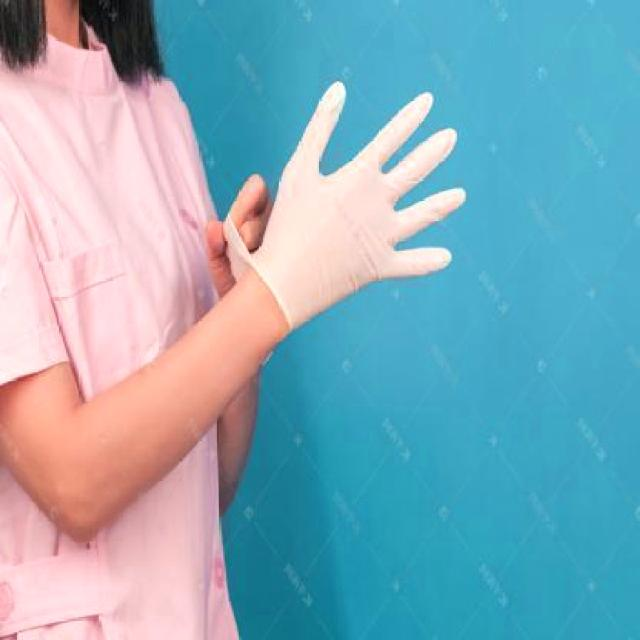hand_glove: (271, 80, 466, 306)
hand_noglove: (204, 170, 274, 299)
